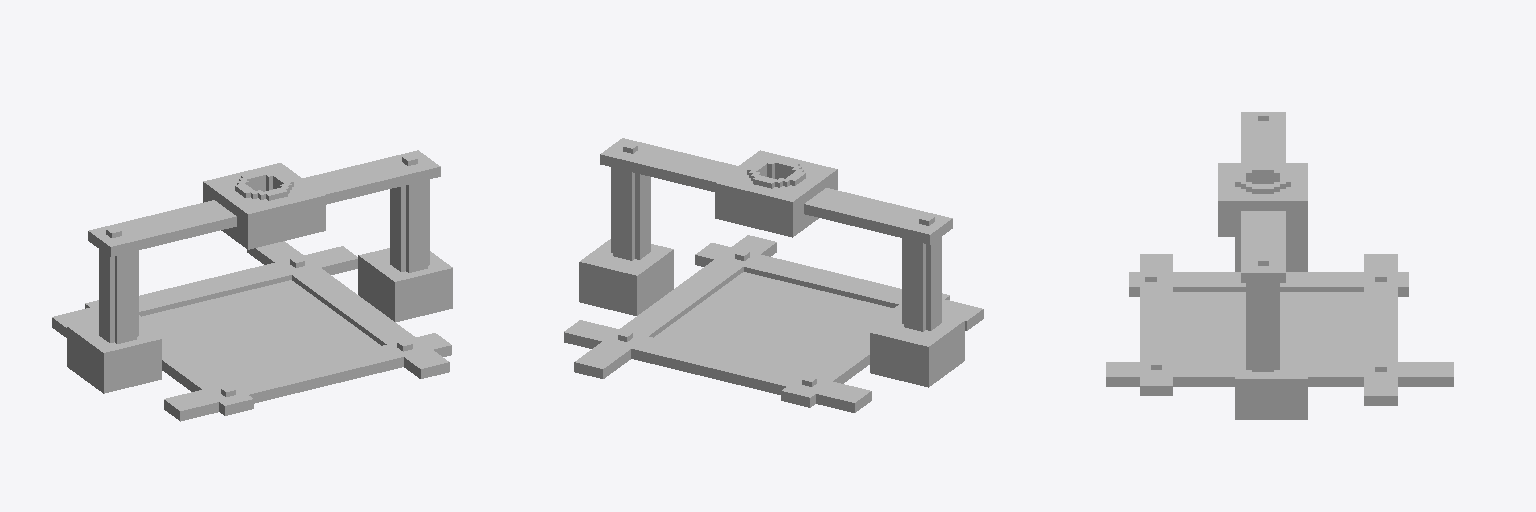
Rendered from drill-1.obj.
3 views of the same model, side by side, from view 1: azimuth 30°, elevation 25°; view 2: azimuth 150°, elevation 25°; view 3: azimuth 270°, elevation 25° (orthographic).
Parts seen in each view (by area): view 1: object 1; view 2: object 1; view 3: object 1.
Boxes of the visible parts, x1,y1,x2,y2 form: object 1: [52, 150, 452, 421]; object 1: [564, 138, 983, 412]; object 1: [1106, 112, 1453, 419].
Size of the model in its own units: 7.2 by 3.1 by 6.2.